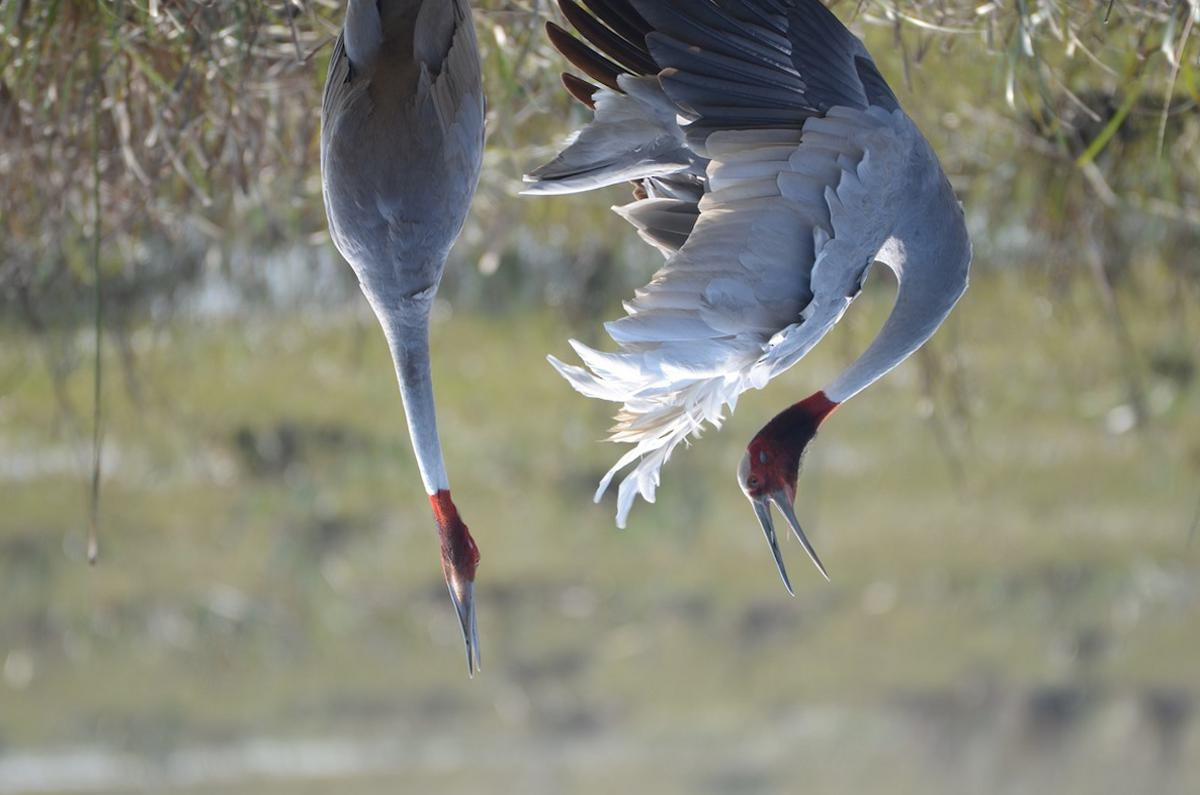crane: (511, 1, 981, 608), (319, 1, 499, 682)
